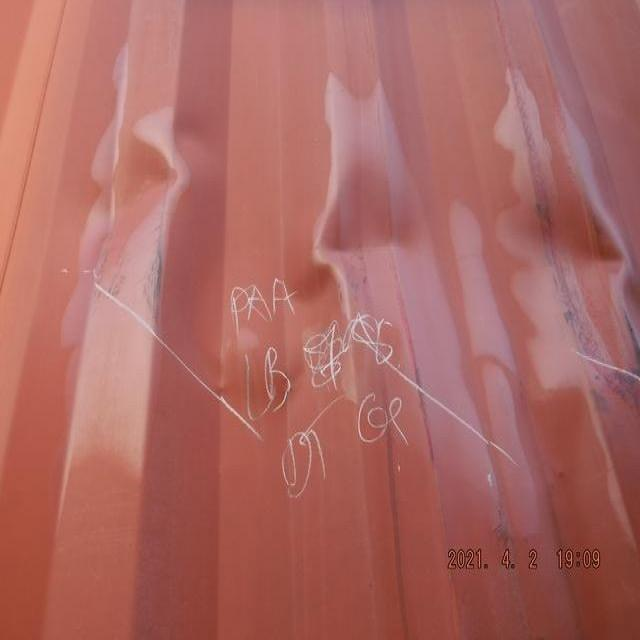dent: (44, 88, 640, 446)
